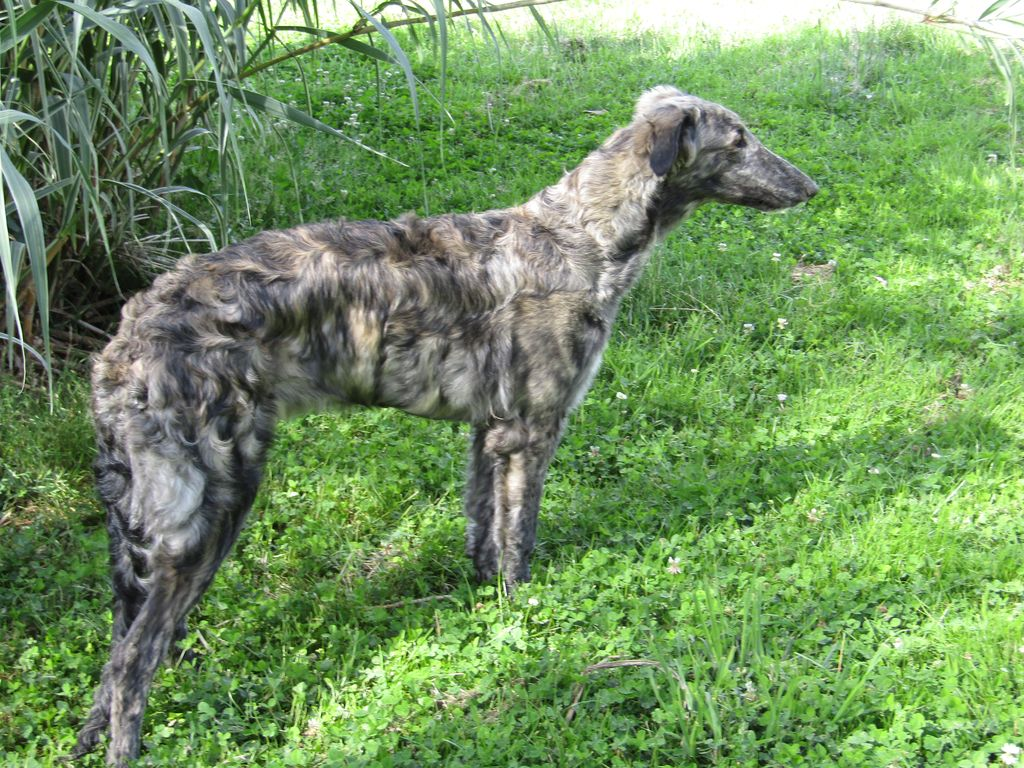borzoi: (51, 74, 825, 762)
